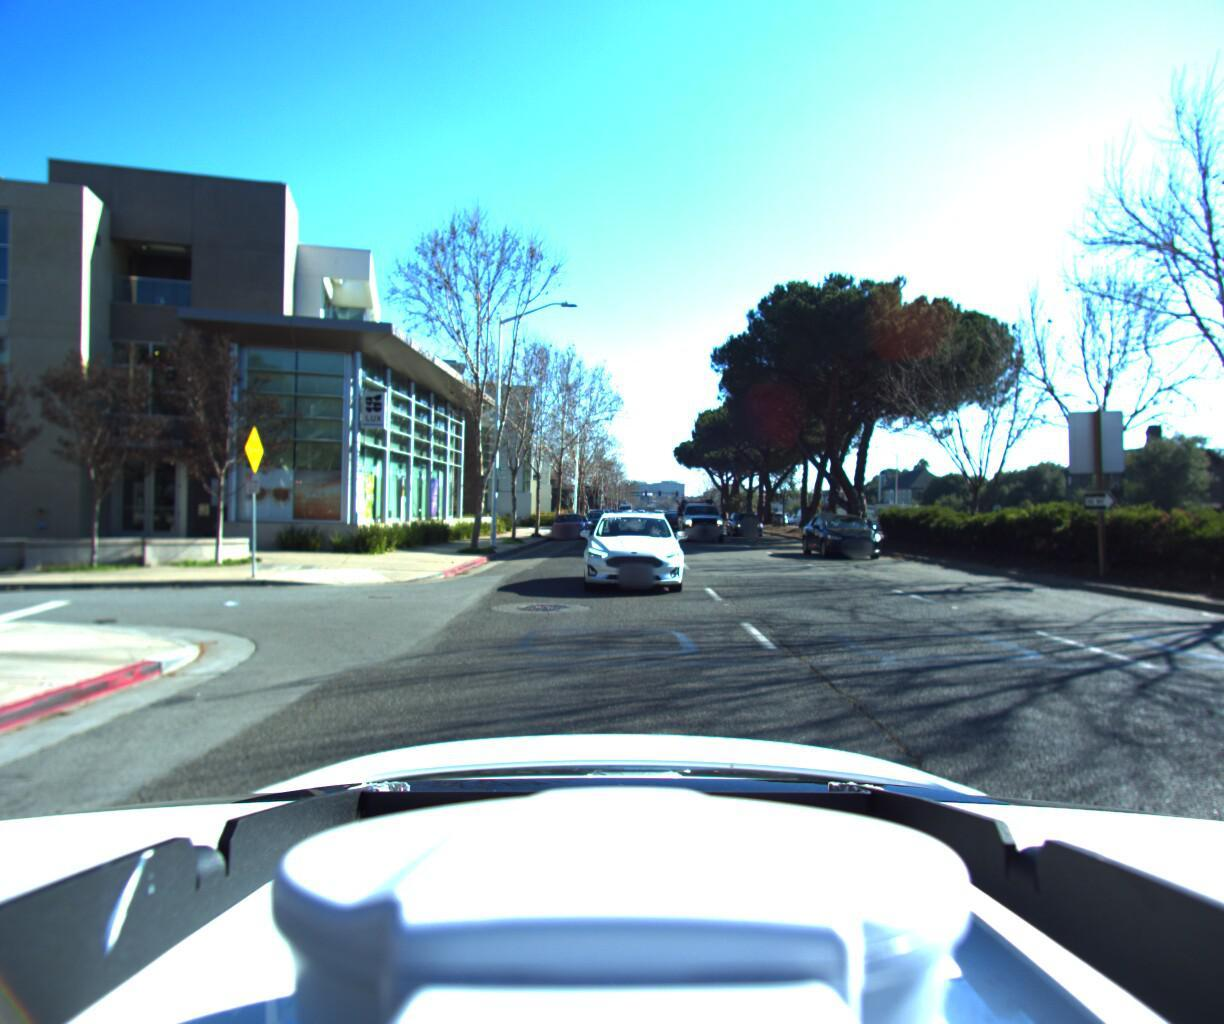car: (568, 507, 679, 599), (803, 508, 896, 559), (676, 489, 729, 539), (546, 506, 591, 539), (724, 513, 766, 539)
